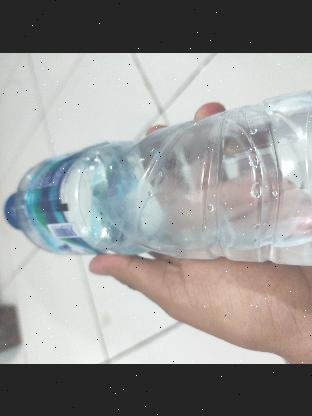Plastic Bottle: (0, 82, 312, 268)
